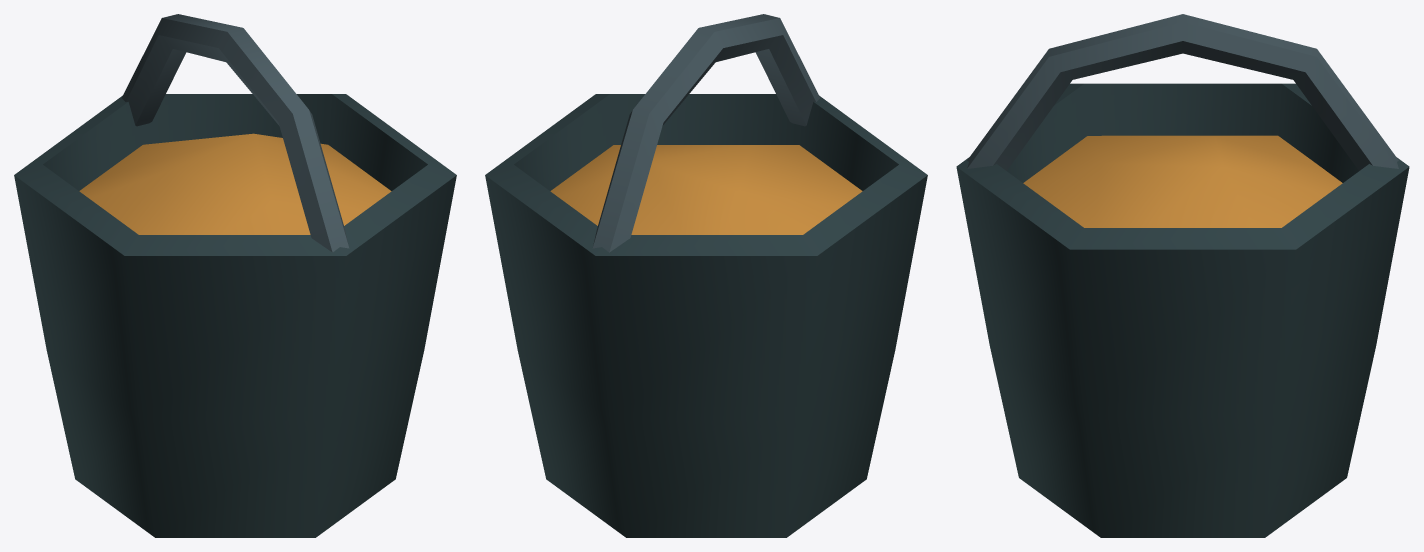
The model's file is Bucket_1_C_2.fbx.
3 renders of one model, left to right at view 1: azimuth 30°, elevation 25°; view 2: azimuth 150°, elevation 25°; view 3: azimuth 270°, elevation 25°, orthographic. The views are drawn at different scales.
Parts seen in each view (by area): view 1: Bucket_1_C_2; view 2: Bucket_1_C_2; view 3: Bucket_1_C_2.
Part boxes in pixels (x1,y1,x2,y2): Bucket_1_C_2: [14, 14, 456, 537]; Bucket_1_C_2: [485, 14, 927, 537]; Bucket_1_C_2: [956, 14, 1409, 537].
Bounding box in the file's own units: 35.25 × 45.58 × 40.71.
